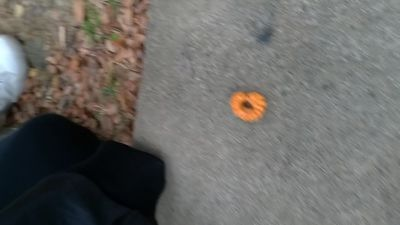eggs: (230, 90, 268, 123)
